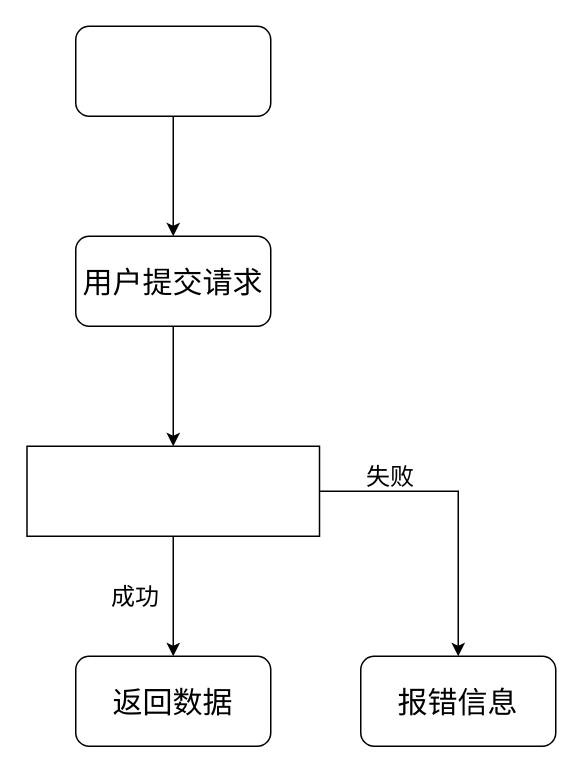
The diagram is 582 pixels wide and 773 high, and some of its shapes have lost their labels. Each missing label, with the centre of its shape:
数据库查询课程信息: the point at 173,490
用户填写条件: the point at 172,70
